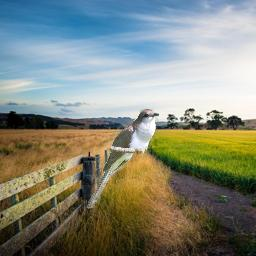Cuckoo: (86, 109, 159, 209)
